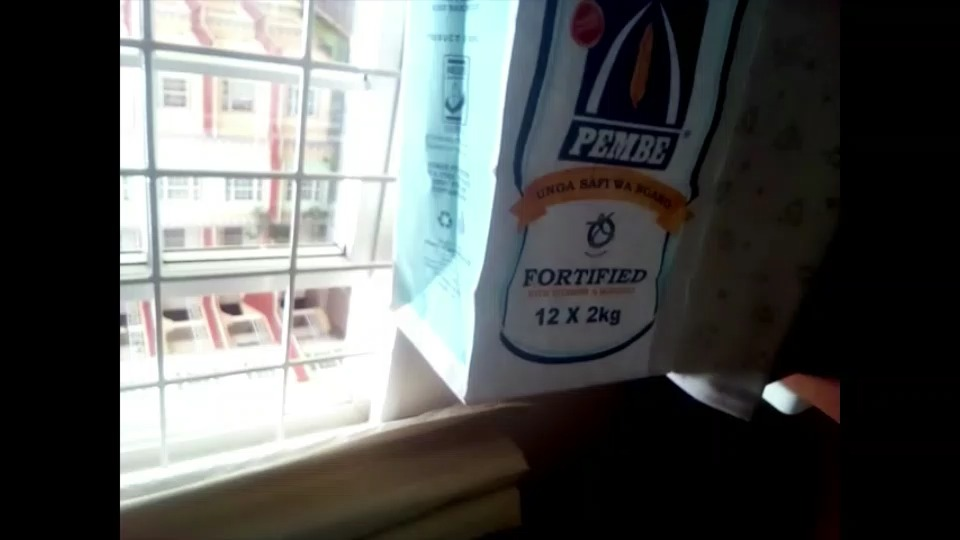wheat_flour_blue_label: (399, 1, 753, 386)
